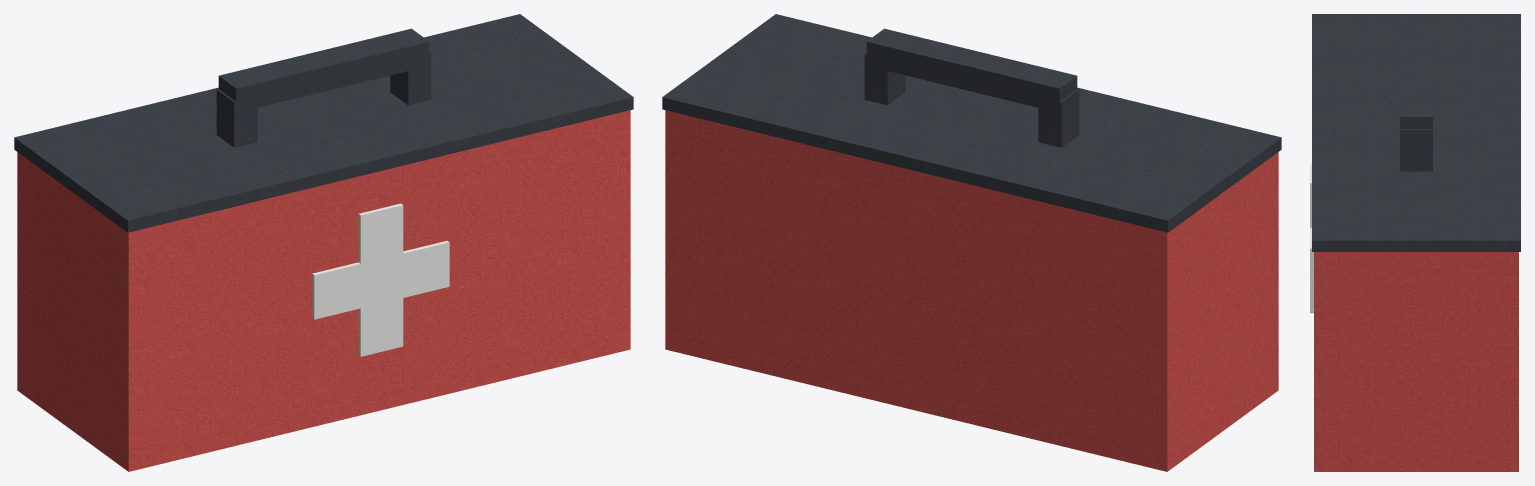
3 views of the same model, side by side, from view 1: azimuth 30°, elevation 25°; view 2: azimuth 150°, elevation 25°; view 3: azimuth 270°, elevation 25° (orthographic). The views are drawn at different scales.
Visible parts, largest first — view 1: medkit; view 2: medkit; view 3: medkit.
Boxes of the visible parts, bbox=[...] form: medkit: bbox=[14, 14, 633, 471]; medkit: bbox=[662, 14, 1281, 471]; medkit: bbox=[1310, 14, 1520, 471].
Size of the model in its own units: 0.262 by 0.154 by 0.103.
3 materials, 3 textured.
